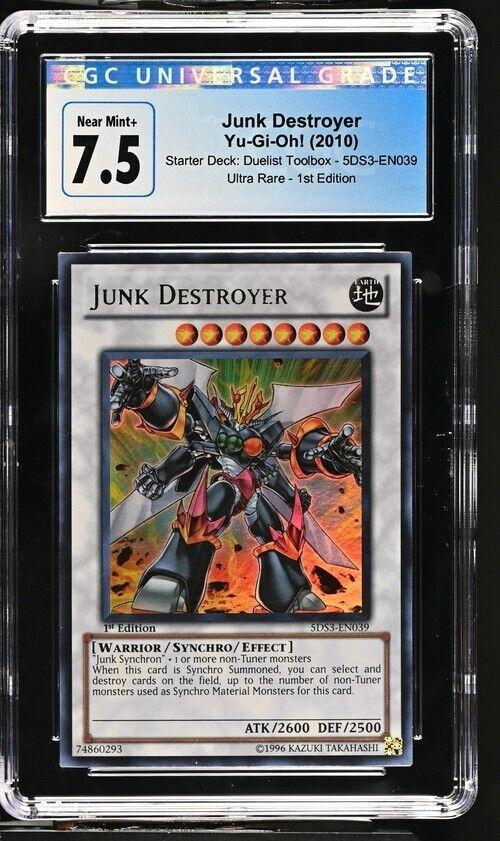card-2UtV: (58, 251, 413, 768)
